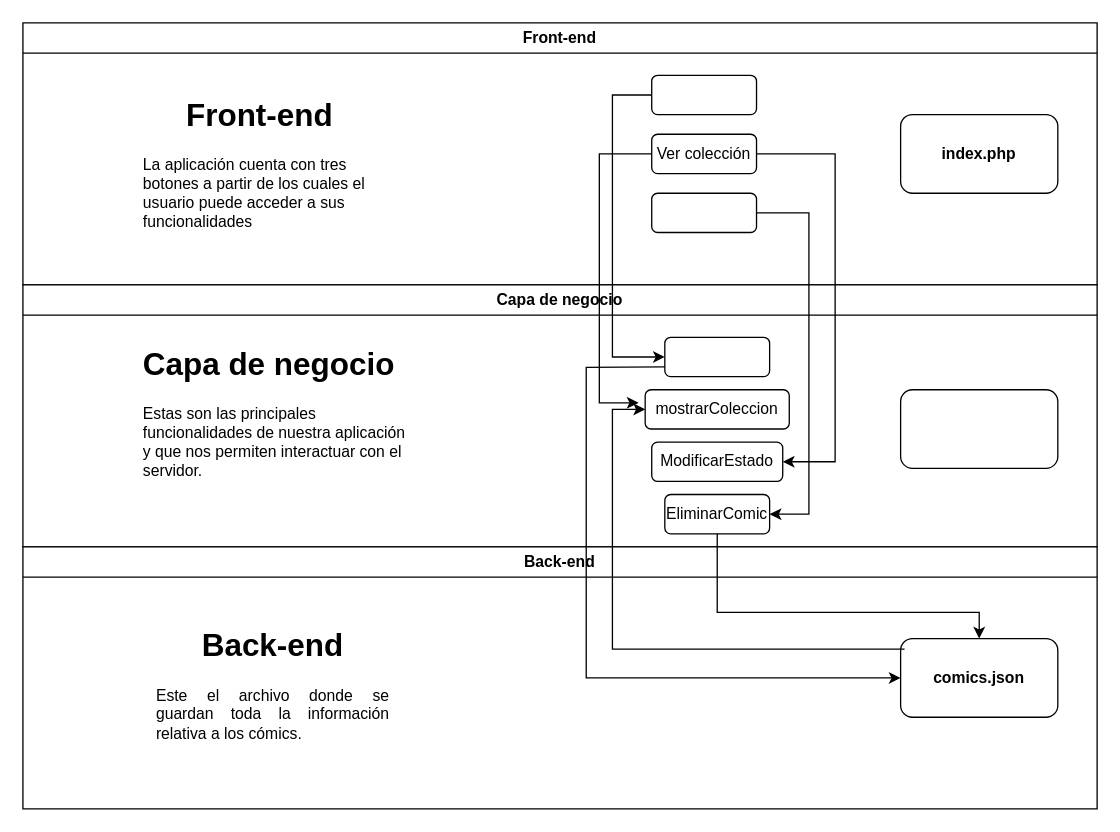
This 1120x832 diagram has some shape labels left out. The shapes that lost their labels are listed below. From the top down, each one's centre as x and y in pixels, then its label:
At [703,94]: "Agregar".
At [703,212]: "Eliminar".
At [717,356]: "AnadirComic".
At [978,428]: "funciones.php".
